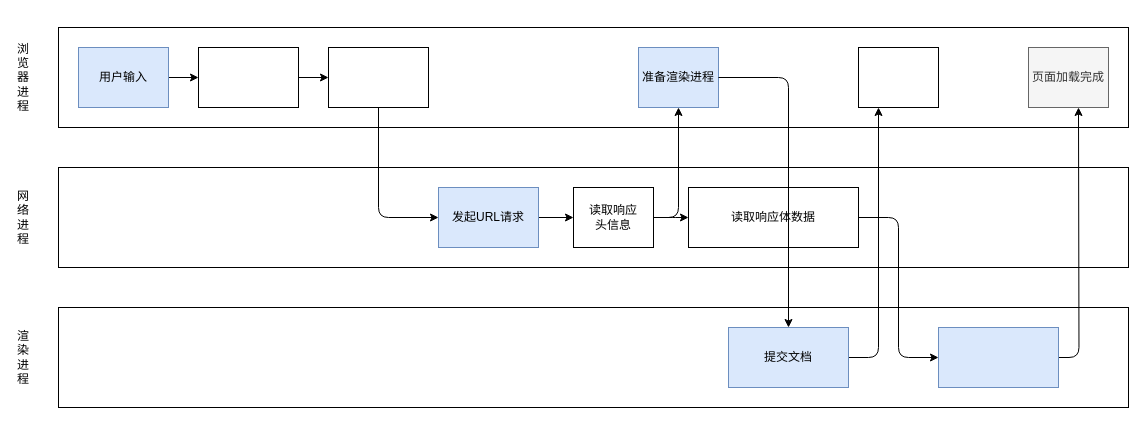
Some shapes in this 1146 by 434 pixel diagram are drawn without their labels. The centre of each missing label's shape, as x and y in pixels:
处理输入的URL: (x=248, y=77)
开始导航: (x=378, y=77)
确认文档 被提交: (x=898, y=77)
页面解析和 子资源加载: (x=998, y=357)
